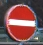No entry: (5, 5, 38, 40)
